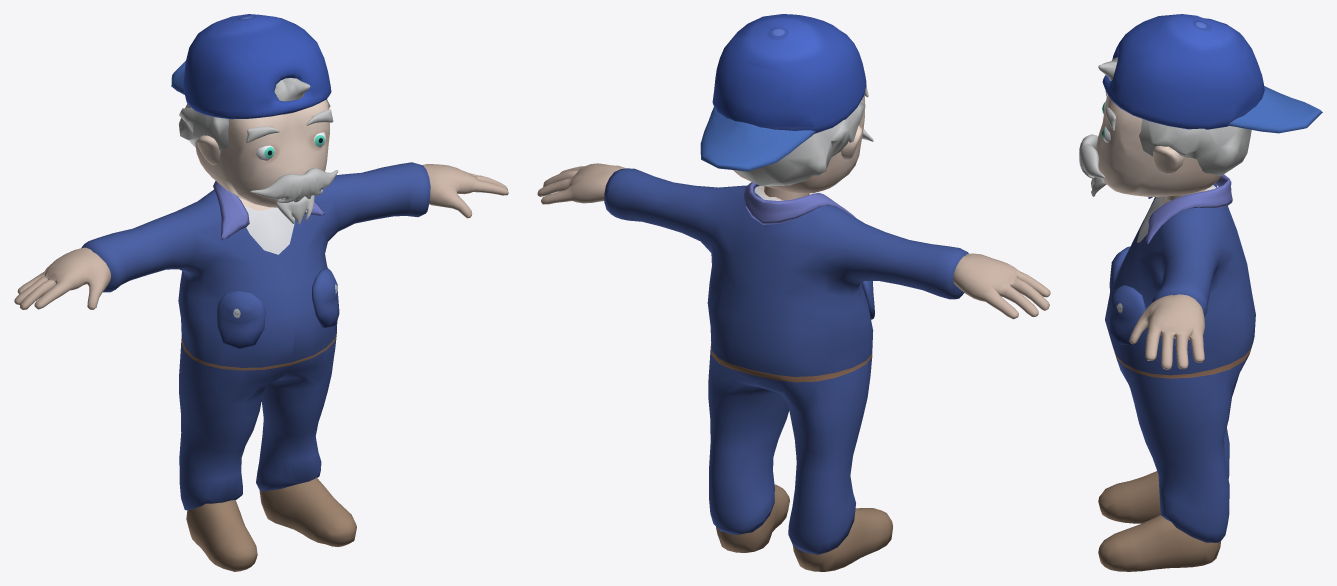
Rendered from TexturedJanitorFBX.fbx.
The picture shows the model from 3 angles, left to right: view 1: azimuth 30°, elevation 25°; view 2: azimuth 150°, elevation 25°; view 3: azimuth 270°, elevation 25°; orthographic projection. The views are drawn at different scales.
Visible parts, largest first — view 1: Body_mesh, Hat_base_mesh, Shoes_mesh, Head_mesh, Hands_mesh, Pocket_mesh, Hair_mesh, Mustache_mesh, Collar_mesh1, Beard_mesh; view 2: Body_mesh, Hat_base_mesh, Hands_mesh, Shoes_mesh, Hat_back_mesh, Hair_mesh, Collar_mesh1, Head_mesh; view 3: Body_mesh, Hat_base_mesh, Shoes_mesh, Head_mesh, Hair_mesh, Hands_mesh, Hat_back_mesh, Pocket_mesh, Collar_mesh1, Mustache_mesh, Ears_mesh.
Boxes of the visible parts, box(x1,y1,x2,y2) form: Body_mesh: box(81, 162, 430, 510); Hat_base_mesh: box(183, 14, 331, 119); Shoes_mesh: box(186, 477, 356, 571); Head_mesh: box(195, 100, 329, 207); Hands_mesh: box(14, 164, 508, 309); Pocket_mesh: box(217, 268, 339, 348); Hair_mesh: box(179, 78, 330, 151); Mustache_mesh: box(250, 168, 338, 202); Collar_mesh1: box(213, 181, 324, 239); Beard_mesh: box(275, 195, 314, 224); Body_mesh: box(604, 168, 968, 554); Hat_base_mesh: box(712, 14, 866, 133); Hands_mesh: box(537, 163, 1050, 319); Shoes_mesh: box(716, 484, 892, 571); Hat_back_mesh: box(700, 107, 815, 171); Hair_mesh: box(734, 100, 864, 186); Collar_mesh1: box(743, 182, 855, 224); Head_mesh: box(733, 94, 865, 193); Body_mesh: box(1105, 183, 1255, 542); Hat_base_mesh: box(1102, 14, 1264, 129); Shoes_mesh: box(1098, 471, 1220, 571); Head_mesh: box(1095, 95, 1221, 196); Hair_mesh: box(1098, 57, 1251, 176); Hands_mesh: box(1129, 294, 1204, 369); Hat_back_mesh: box(1228, 86, 1322, 133); Pocket_mesh: box(1109, 246, 1145, 345); Collar_mesh1: box(1146, 174, 1232, 243); Mustache_mesh: box(1079, 134, 1104, 178); Ears_mesh: box(1153, 146, 1185, 174).
Bounding box in the file's own units: 8.33 × 8.37 × 3.55.
